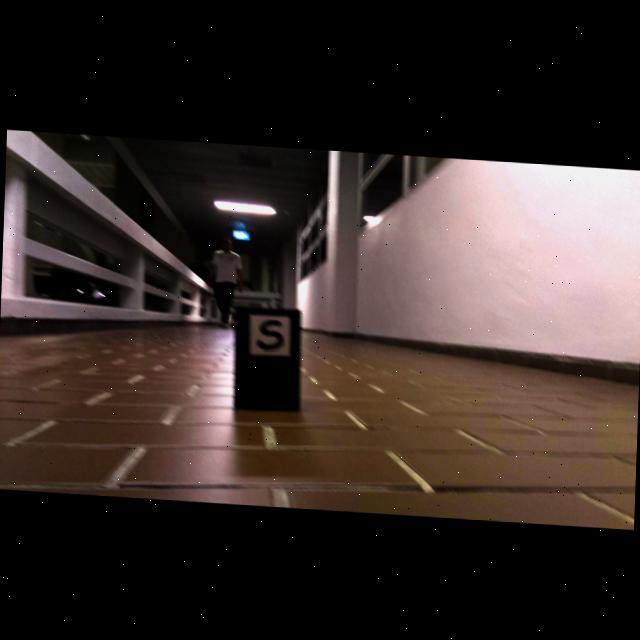S: (257, 319, 284, 349)
